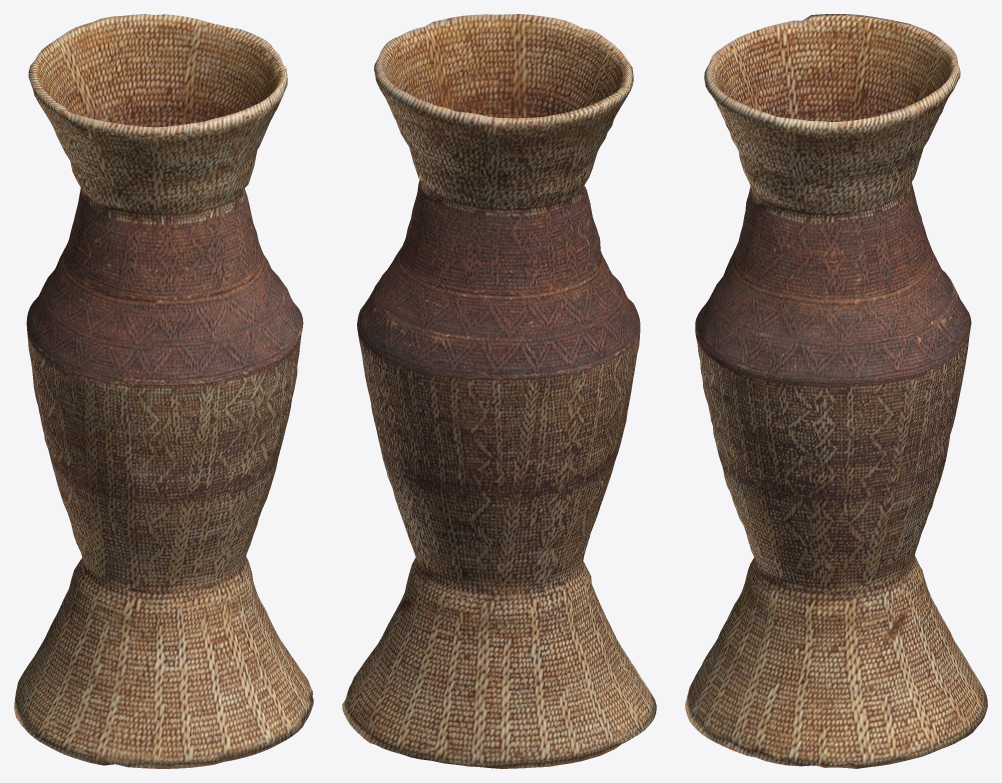
Rendered from woven-milk-vessel.gltf.
3 views of the same model, side by side, from view 1: azimuth 30°, elevation 25°; view 2: azimuth 150°, elevation 25°; view 3: azimuth 270°, elevation 25° (orthographic).
Parts seen in each view (by area): view 1: milk-vessel-low; view 2: milk-vessel-low; view 3: milk-vessel-low.
Part boxes in pixels (<box>): milk-vessel-low: <box>14,14,313,768</box>; milk-vessel-low: <box>342,14,656,768</box>; milk-vessel-low: <box>685,14,987,768</box>.
Bounding box in the file's own units: 21.94 × 50.39 × 21.49.
1 material, 1 textured.
